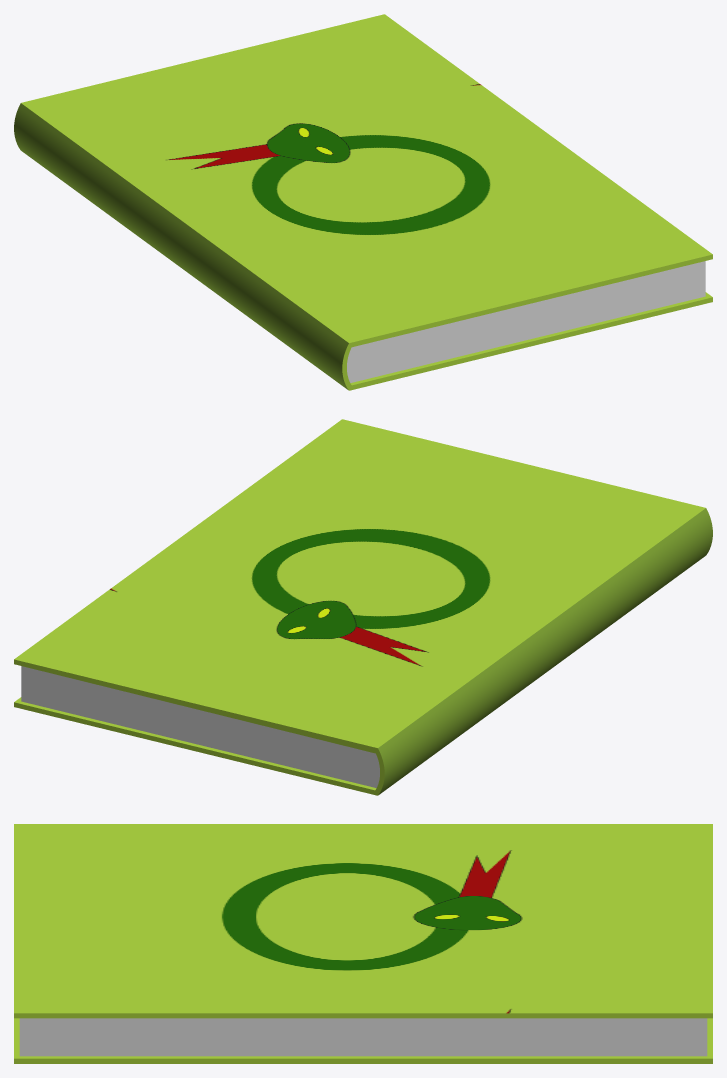
File: snake6b.fbx
The picture shows the model from 3 angles, top to bottom: view 1: azimuth 30°, elevation 25°; view 2: azimuth 150°, elevation 25°; view 3: azimuth 270°, elevation 25°; orthographic projection. The views are drawn at different scales.
Visible parts, largest first — view 1: book_shape:polySurface1; view 2: book_shape:polySurface1; view 3: book_shape:polySurface1.
Part boxes in pixels (box(x1,y1,x2,y2)): book_shape:polySurface1: box(14, 14, 712, 390); book_shape:polySurface1: box(14, 419, 712, 795); book_shape:polySurface1: box(14, 824, 712, 1063).
Size of the model in its own units: 16.3 by 2 by 25.
Materials: 3 (1 with a texture image).
